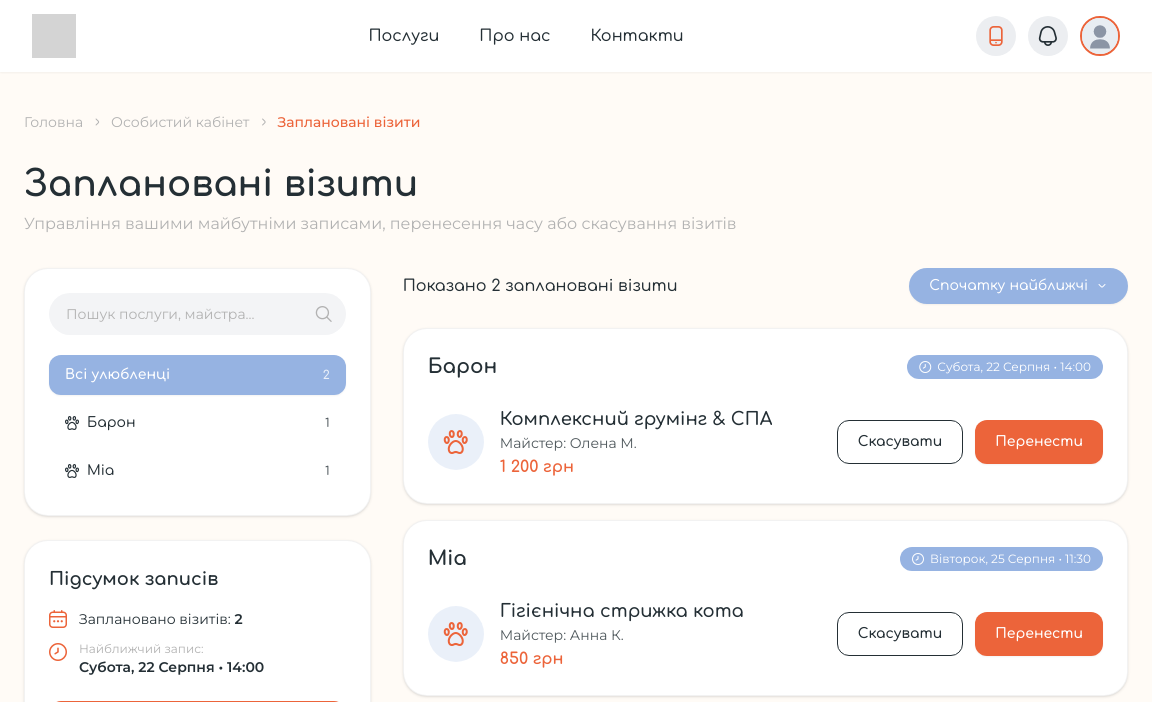
Test: ProfileUpcomingVisitsPage › filters visits by selected pet tab
Click the tab "Міа 1".
click(72, 471)  # box x1=49 y1=451 x2=346 y2=491
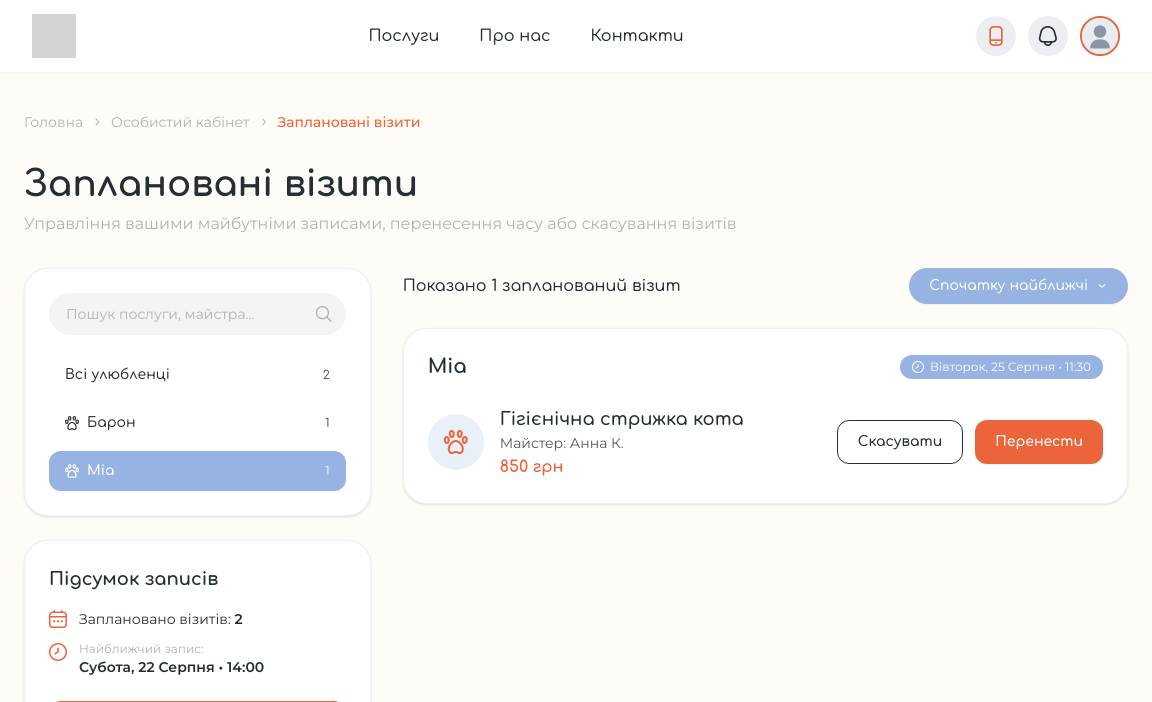
Expected: the element with test id "upcoming-visit-item-v2" is shown, x1=403 y1=328 x2=1128 y2=504
Expected: the text "Показано 1 запланований візит" is shown, x1=403 y1=274 x2=680 y2=298
Expected: the element with test id "upcoming-visit-item-v1" is gone
Click the tab "Всі улюбленці 2".
click(117, 374)  # box x1=49 y1=355 x2=346 y2=395
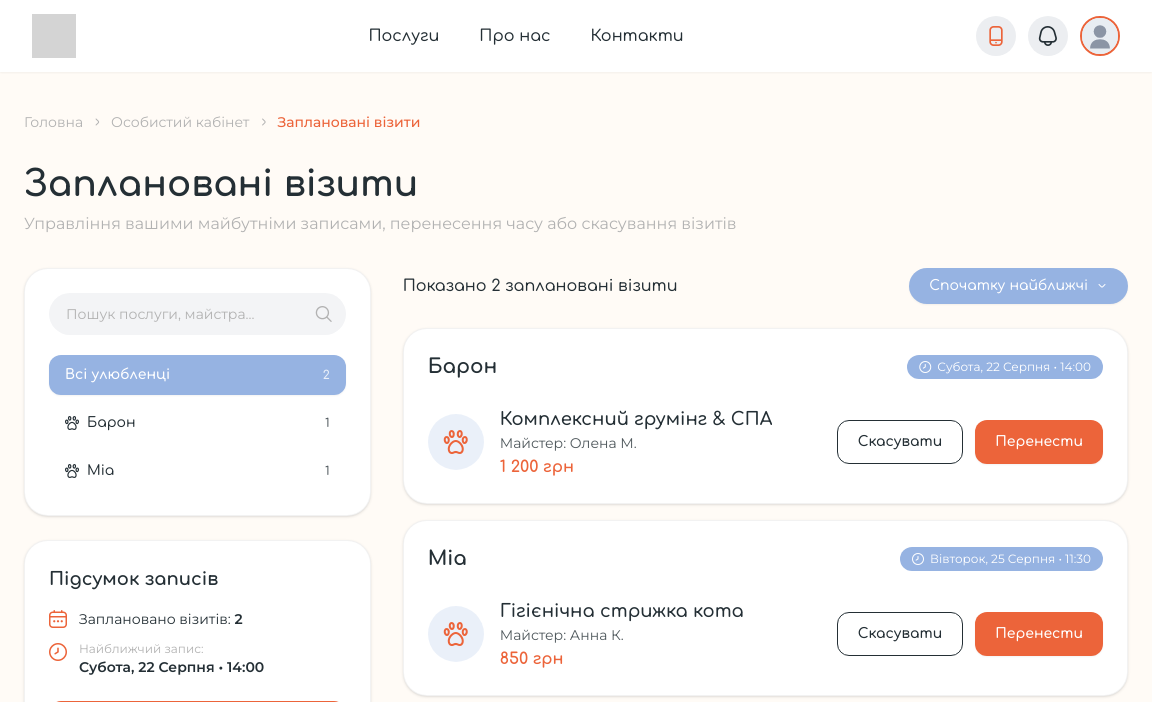
Expected: the element with test id "upcoming-visit-item-v2" is shown, x1=403 y1=520 x2=1128 y2=696
Expected: the text "Показано 2 заплановані візити" is shown, x1=403 y1=274 x2=678 y2=298
Expected: the element with test id "upcoming-visit-item-v1" is shown, x1=403 y1=328 x2=1128 y2=504
